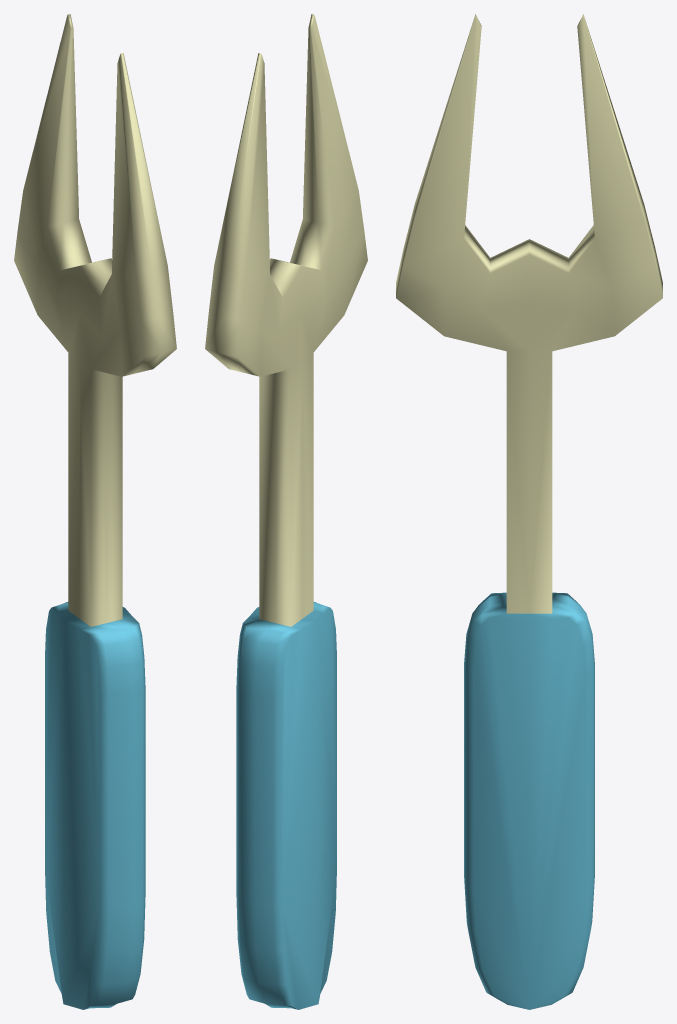
Rendered from Weapon.fbx.
3 views of the same model, side by side, from view 1: azimuth 30°, elevation 25°; view 2: azimuth 150°, elevation 25°; view 3: azimuth 270°, elevation 25° (orthographic).
Parts seen in each view (by area): view 1: Cube.001; view 2: Cube.001; view 3: Cube.001.
Boxes of the visible parts, x1,y1,x2,y2 form: Cube.001: (14, 14, 176, 1009); Cube.001: (205, 14, 367, 1009); Cube.001: (396, 14, 662, 1009).
Size of the model in its own units: 67.12 by 952 by 235.
